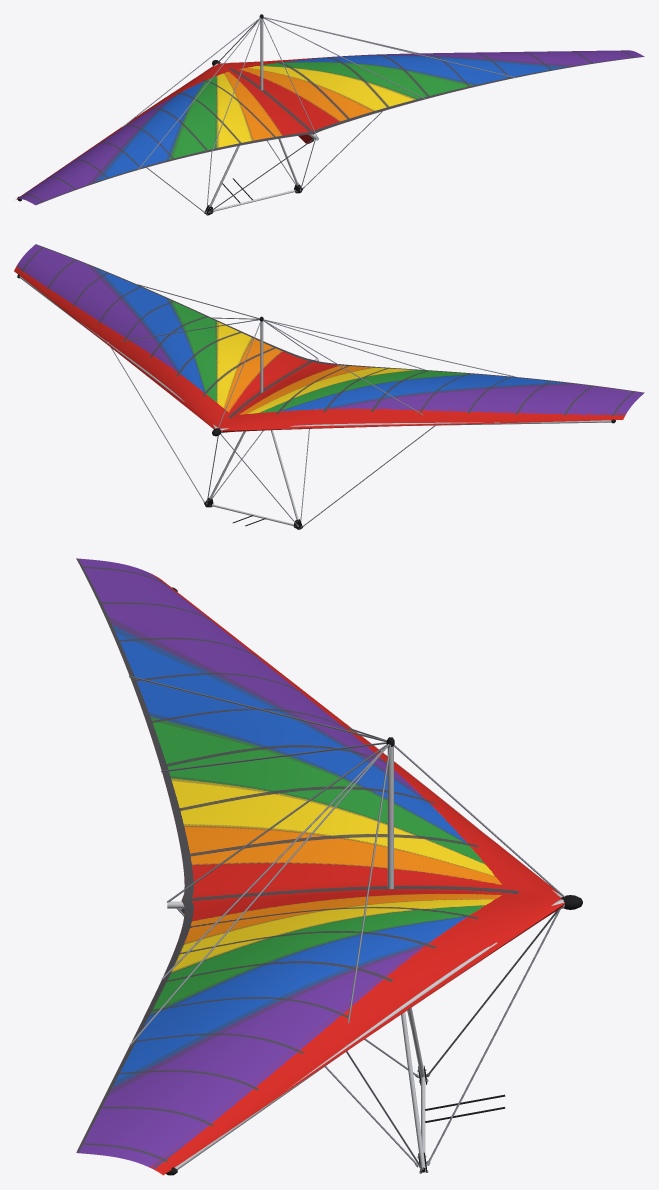
Rendered from glider_atlas.glb.
3 renders of one model, top to bottom at view 1: azimuth 30°, elevation 25°; view 2: azimuth 150°, elevation 25°; view 3: azimuth 270°, elevation 25°, orthographic. The views are drawn at different scales.
Visible parts, largest first — view 1: Sail, Frame, ControlFrame; view 2: Sail, Frame, ControlFrame; view 3: Sail, Frame, ControlFrame.
Boxes of the visible parts, left/top/right/bottom form: Sail: left=16, top=50, right=644, bottom=205; Frame: left=17, top=14, right=515, bottom=201; ControlFrame: left=146, top=111, right=382, bottom=215; Sail: left=14, top=244, right=644, bottom=432; Frame: left=17, top=274, right=615, bottom=436; ControlFrame: left=110, top=347, right=435, bottom=529; Sail: left=76, top=558, right=565, bottom=1175; Frame: left=129, top=587, right=582, bottom=1175; ControlFrame: left=176, top=908, right=560, bottom=1173.
Bounding box in the file's own units: 9.8 × 3.01 × 3.53.
7 materials, 1 textured.
